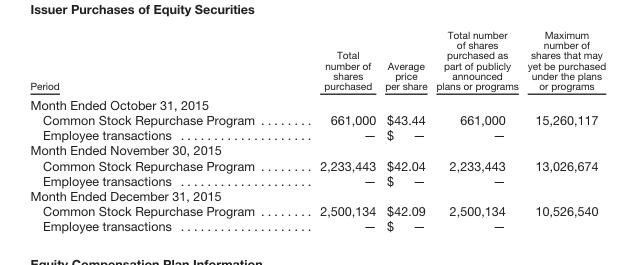table: (29, 28, 605, 233)
table column: (29, 28, 286, 233), (286, 28, 379, 233), (431, 28, 522, 233), (522, 28, 605, 233), (379, 28, 431, 233)
table column header: (29, 28, 605, 94)
table projected row header: (29, 94, 605, 112), (29, 187, 605, 203), (29, 142, 605, 157)
table row: (29, 28, 605, 94), (29, 94, 605, 112), (29, 187, 605, 203), (29, 112, 605, 127), (29, 127, 605, 142), (29, 142, 605, 157), (29, 157, 605, 172), (29, 172, 605, 187), (29, 203, 605, 218), (29, 218, 605, 233)
